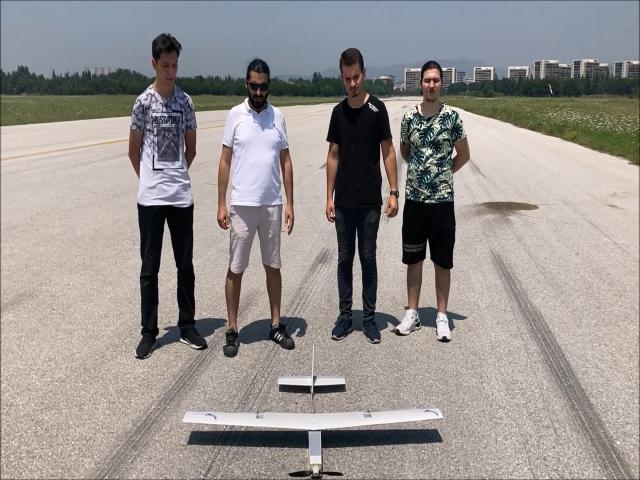insansiz-hava-araci: (182, 344, 444, 478)
